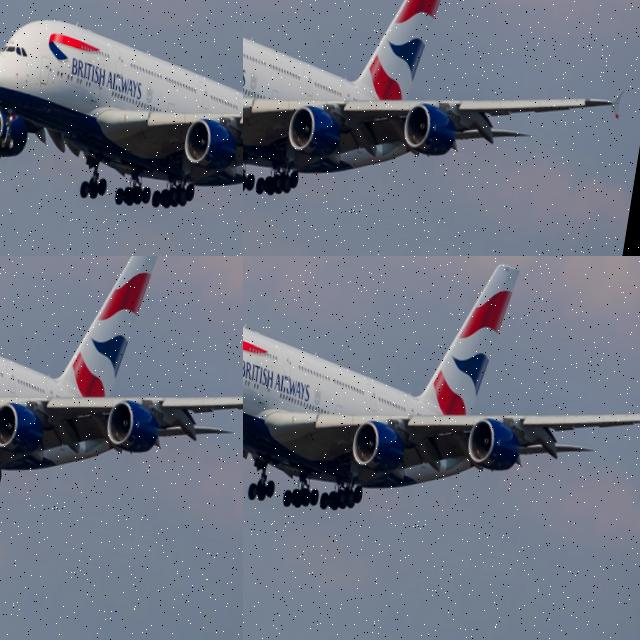A380: (243, 256, 640, 578), (243, 0, 505, 256)
Apache: (0, 256, 243, 548), (0, 5, 243, 256)
